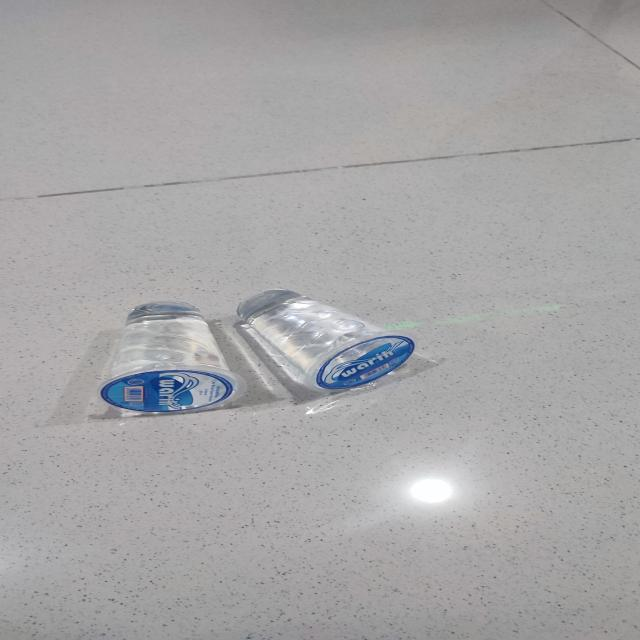air gelas: (228, 283, 423, 392), (100, 293, 245, 417)
